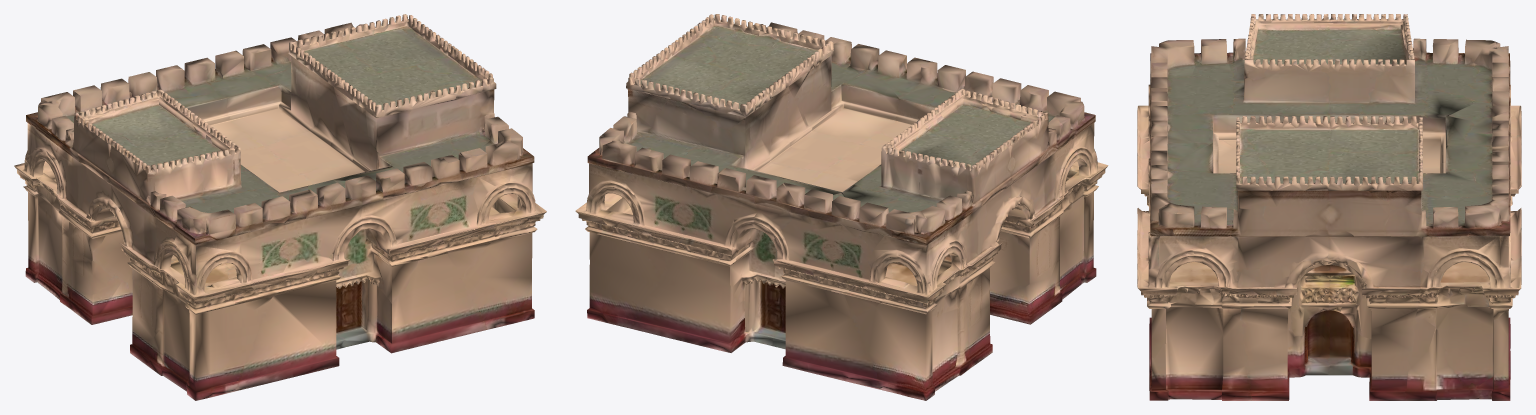
The model's file is Meshy_AI_Moroccan_palace_exter_0808145750_texture.glb.
3 renders of one model, left to right at view 1: azimuth 30°, elevation 25°; view 2: azimuth 150°, elevation 25°; view 3: azimuth 270°, elevation 25°, orthographic. The views are drawn at different scales.
Visible parts, largest first — view 1: mesh_node; view 2: mesh_node; view 3: mesh_node.
Part boxes in pixels (x1=…): mesh_node: x1=14, y1=14, x2=546, y2=400; mesh_node: x1=575, y1=14, x2=1108, y2=400; mesh_node: x1=1137, y1=14, x2=1521, y2=400.
Bounding box in the file's own units: 1.9 × 1.09 × 1.68.
Materials: 1 (1 with a texture image).
